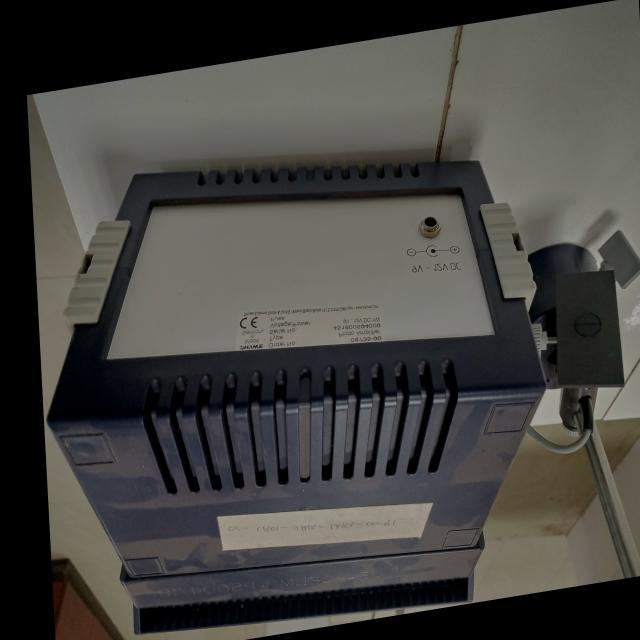Photo Amplifier Power Supply: (31, 83, 623, 640)
